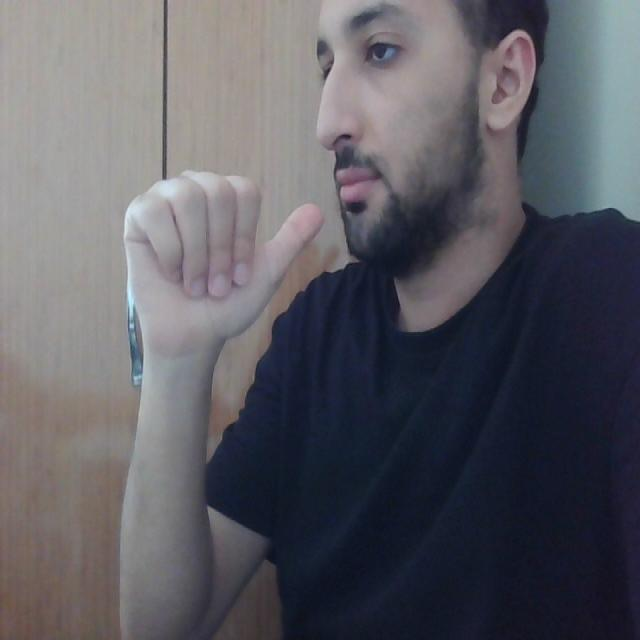icmek: (88, 126, 366, 337)
